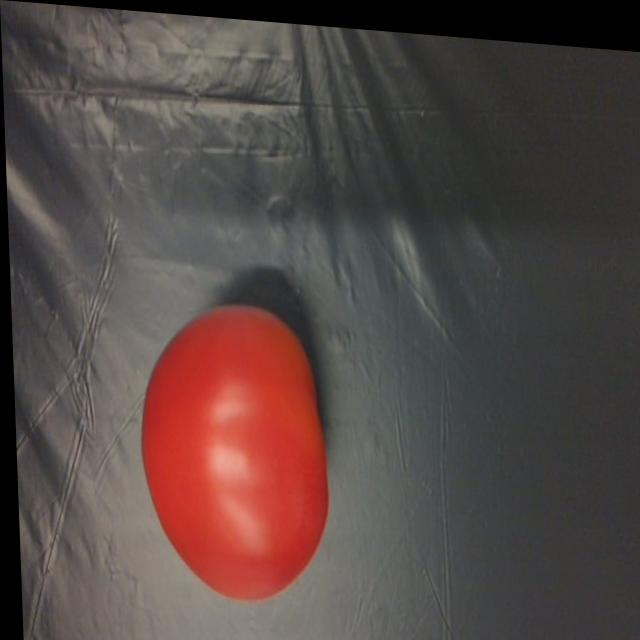kirmizi: (129, 282, 333, 607)
